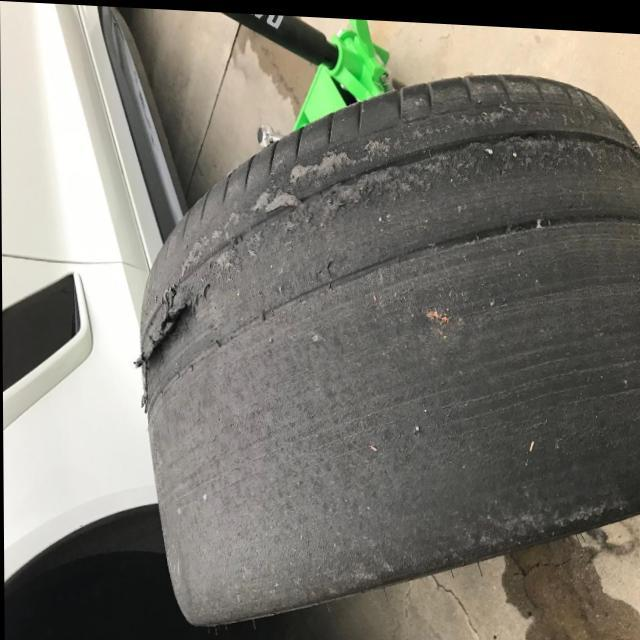Flat spots: (165, 382, 457, 583), (461, 249, 640, 512), (188, 249, 455, 372), (212, 174, 635, 240)
